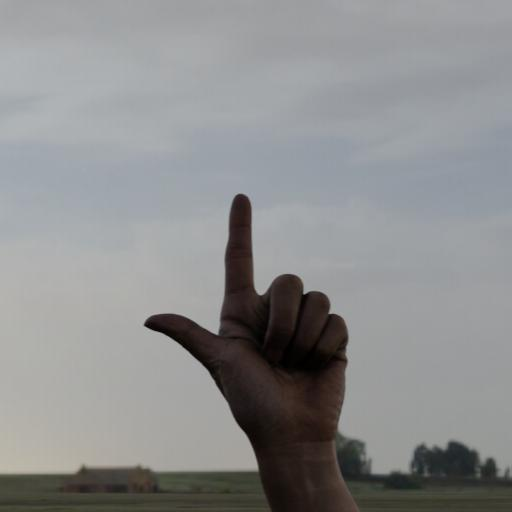L: (139, 190, 354, 444)
